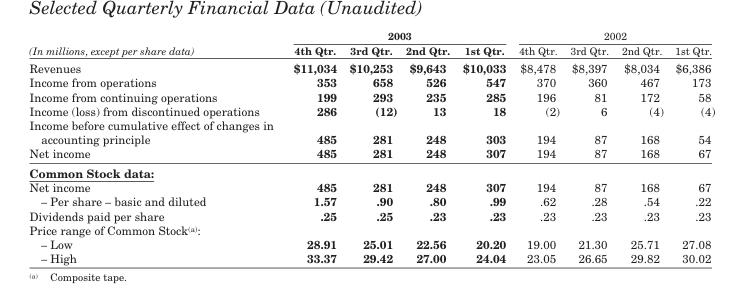table: (28, 28, 714, 264)
table column: (28, 28, 282, 264), (282, 28, 342, 264), (342, 28, 400, 264), (455, 28, 511, 264), (400, 28, 455, 264), (614, 28, 668, 264), (511, 28, 564, 264), (564, 28, 614, 264), (668, 28, 714, 264)
table column header: (28, 28, 714, 58)
table projected row header: (28, 162, 714, 179), (28, 222, 714, 236)
table row: (28, 117, 714, 146), (28, 162, 714, 179), (28, 42, 714, 58), (28, 58, 714, 74), (28, 146, 714, 162), (28, 74, 714, 89), (28, 193, 714, 208), (28, 28, 714, 42), (28, 89, 714, 103), (28, 103, 714, 117), (28, 179, 714, 193), (28, 208, 714, 222), (28, 222, 714, 236), (28, 236, 714, 250), (28, 250, 714, 264)
table spanning cell: (28, 28, 282, 58), (282, 28, 511, 42), (511, 28, 714, 42)
